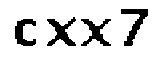7: (119, 5, 147, 48)
c: (10, 16, 38, 49)
x: (43, 16, 79, 51), (79, 15, 112, 50)
